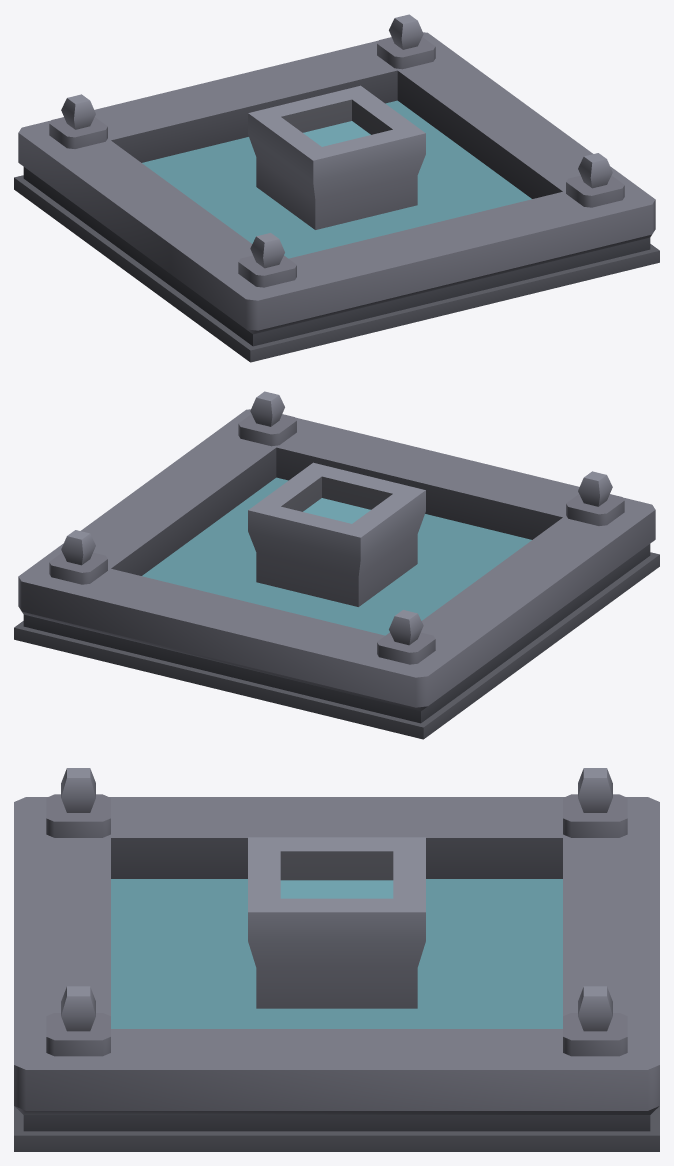
File: fountain-square-detail.glb
3 views of the same model, one above another, from view 1: azimuth 30°, elevation 25°; view 2: azimuth 150°, elevation 25°; view 3: azimuth 270°, elevation 25° (orthographic). The views are drawn at different scales.
Parts seen in each view (by area): view 1: fountain-square-detail; view 2: fountain-square-detail; view 3: fountain-square-detail.
Part boxes in pixels (x1,y1,x2,y2): fountain-square-detail: (14,14,659,362); fountain-square-detail: (14,391,659,739); fountain-square-detail: (14,768,659,1151).
Size of the model in its own units: 4.5 by 1.08 by 4.5.
